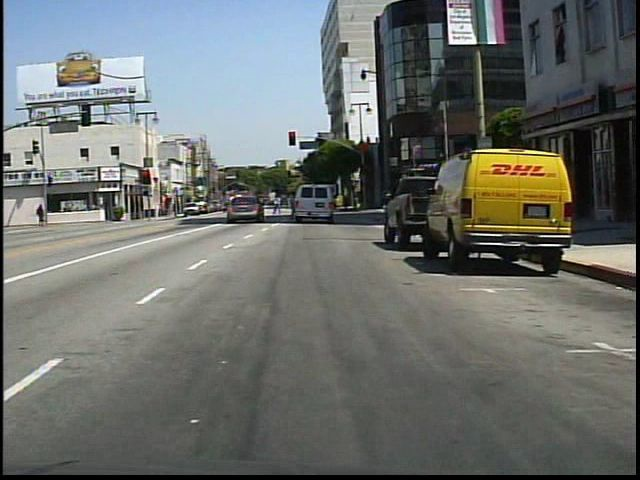person: (270, 194, 284, 218), (35, 204, 46, 226), (287, 191, 294, 223)
